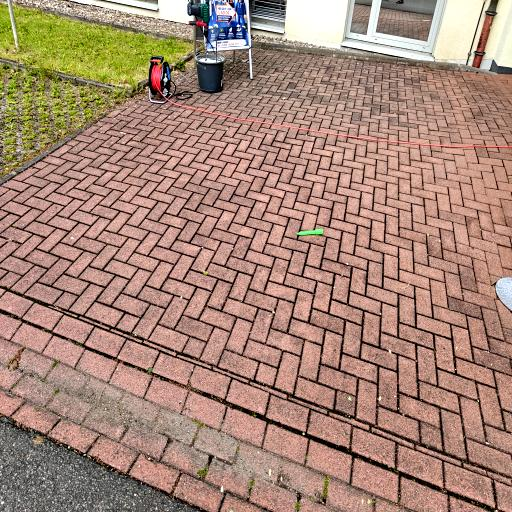Probe-Detection: (296, 229, 323, 236)
